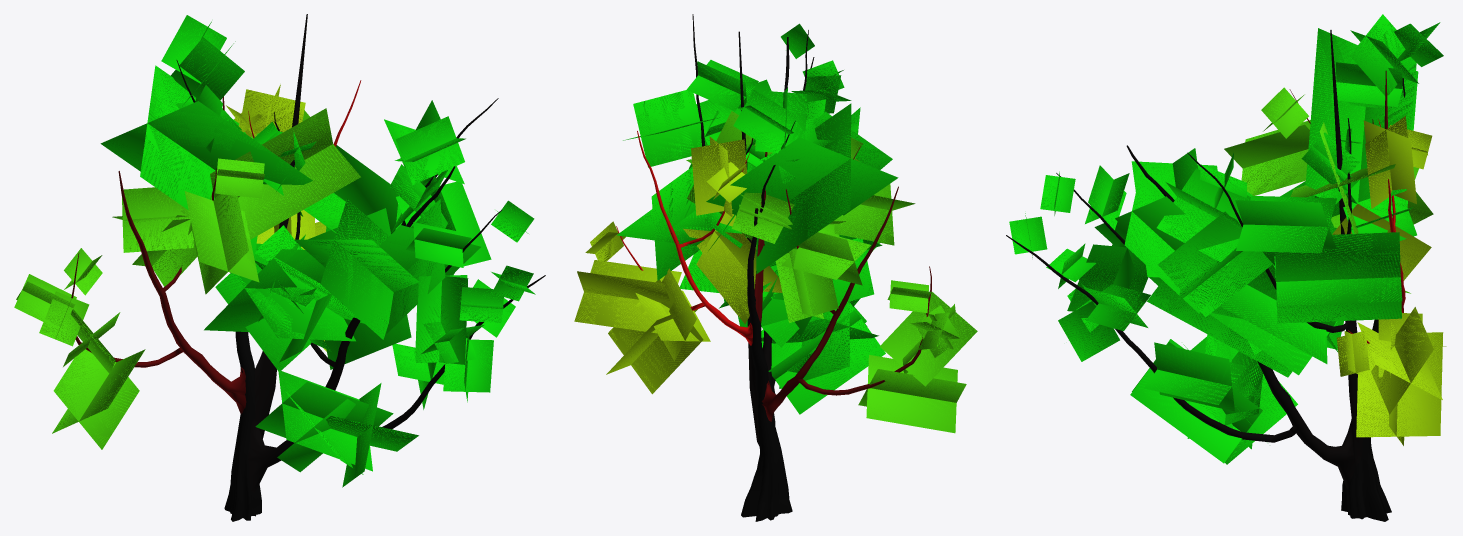
File: Type_1_Tree_14.fbx
3 renders of one model, left to right at view 1: azimuth 30°, elevation 25°; view 2: azimuth 150°, elevation 25°; view 3: azimuth 270°, elevation 25°, orthographic. The views are drawn at different scales.
Parts seen in each view (by area): view 1: Leaf, Trunk; view 2: Leaf, Trunk; view 3: Leaf, Trunk.
Part boxes in pixels (<box>): Leaf: <box>14,15,535,487</box>; Trunk: <box>71,14,545,521</box>; Leaf: <box>574,23,977,433</box>; Trunk: <box>616,14,931,521</box>; Leaf: <box>1009,14,1446,464</box>; Trunk: <box>1006,30,1405,521</box>.
Size of the model in its own units: 3309 by 3750 by 2974.
